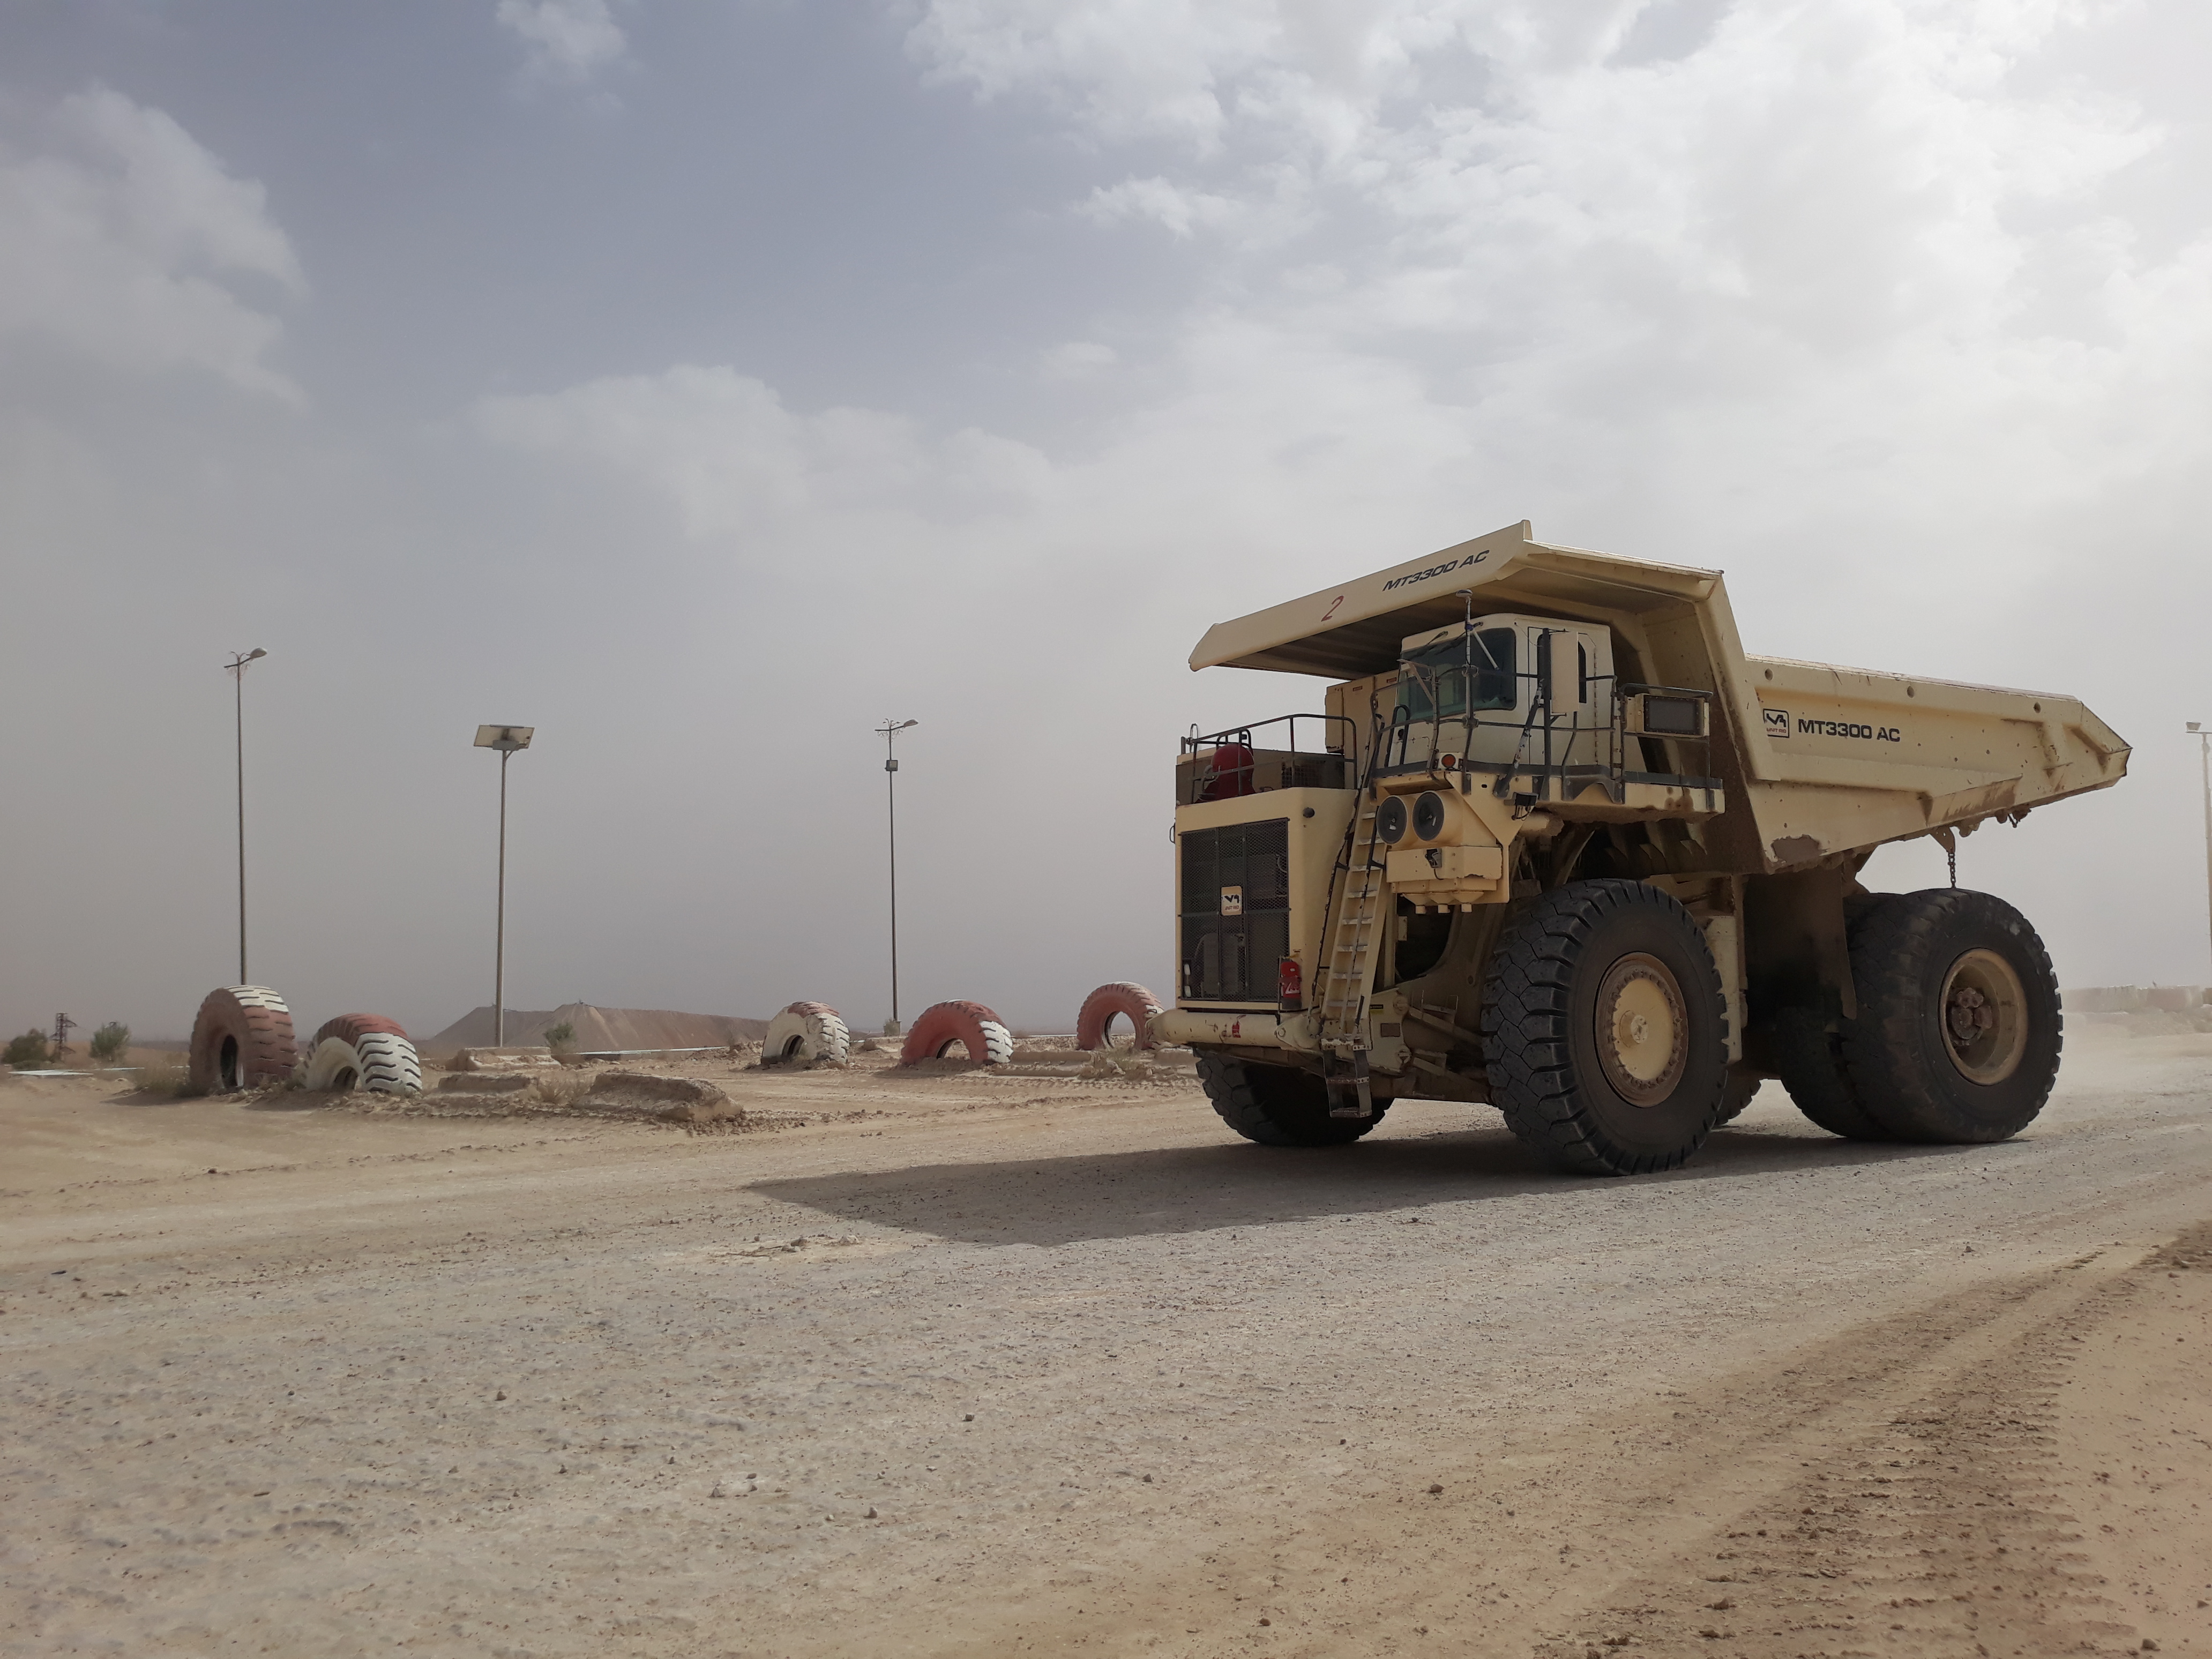camion: (1132, 505, 2172, 1199)
